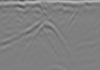hyperbola: (24, 18, 71, 62)
